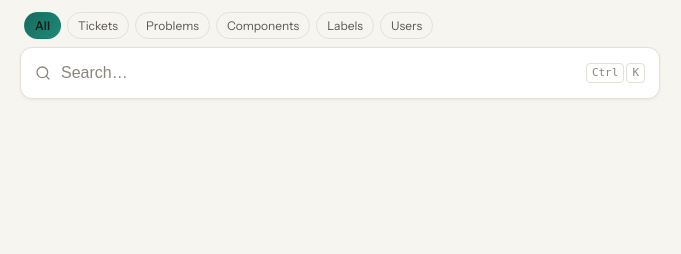
Scenario: GlobalSearchBar › shows the direct-match row when response has direct_match
Type "AION-1" into the search field at {"x": 318, "y": 73}, box [61,52,576,94]
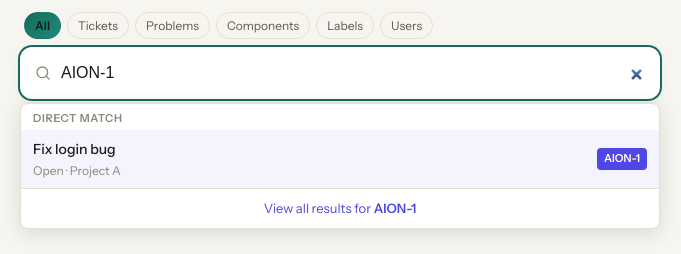
Expected: the text "Fix login bug" is shown, [33,140,116,158]
